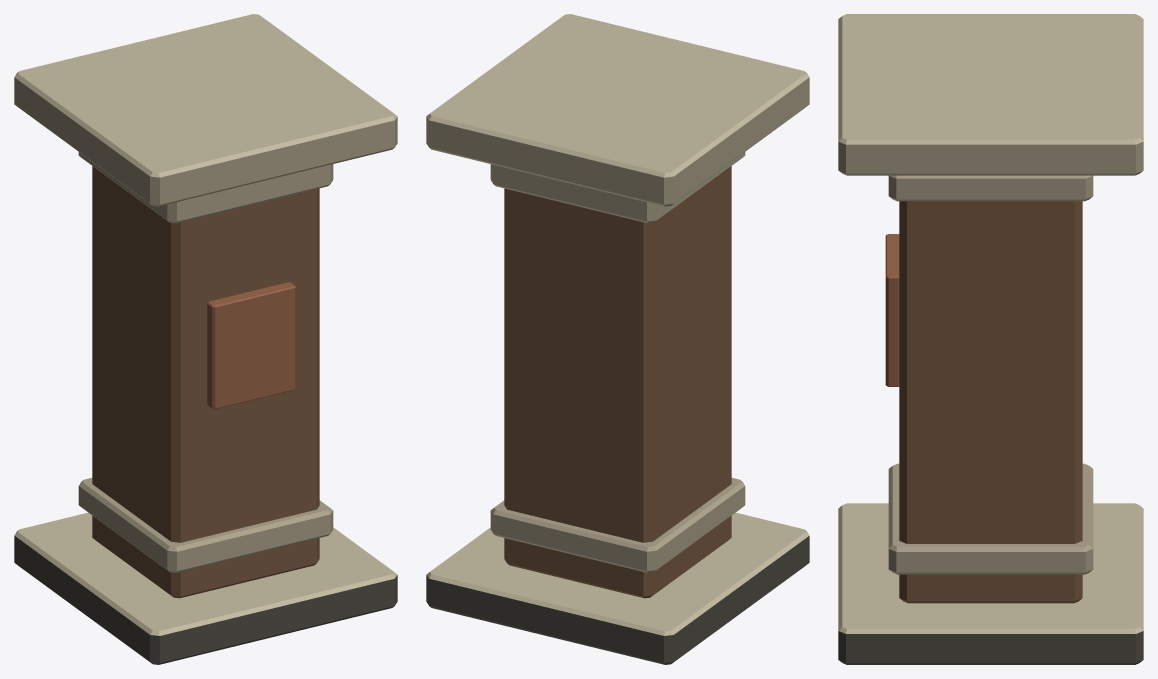
Rendered from pillar-large.glb.
3 views of the same model, side by side, from view 1: azimuth 30°, elevation 25°; view 2: azimuth 150°, elevation 25°; view 3: azimuth 270°, elevation 25° (orthographic). The views are drawn at different scales.
Parts seen in each view (by area): view 1: pillar-large__body; view 2: pillar-large__body; view 3: pillar-large__body.
Boxes of the visible parts, bbox=[...] form: pillar-large__body: bbox=[14, 14, 397, 664]; pillar-large__body: bbox=[426, 14, 809, 664]; pillar-large__body: bbox=[838, 14, 1143, 664].
Bounding box in the file's own units: 1 × 1.9 × 1.
